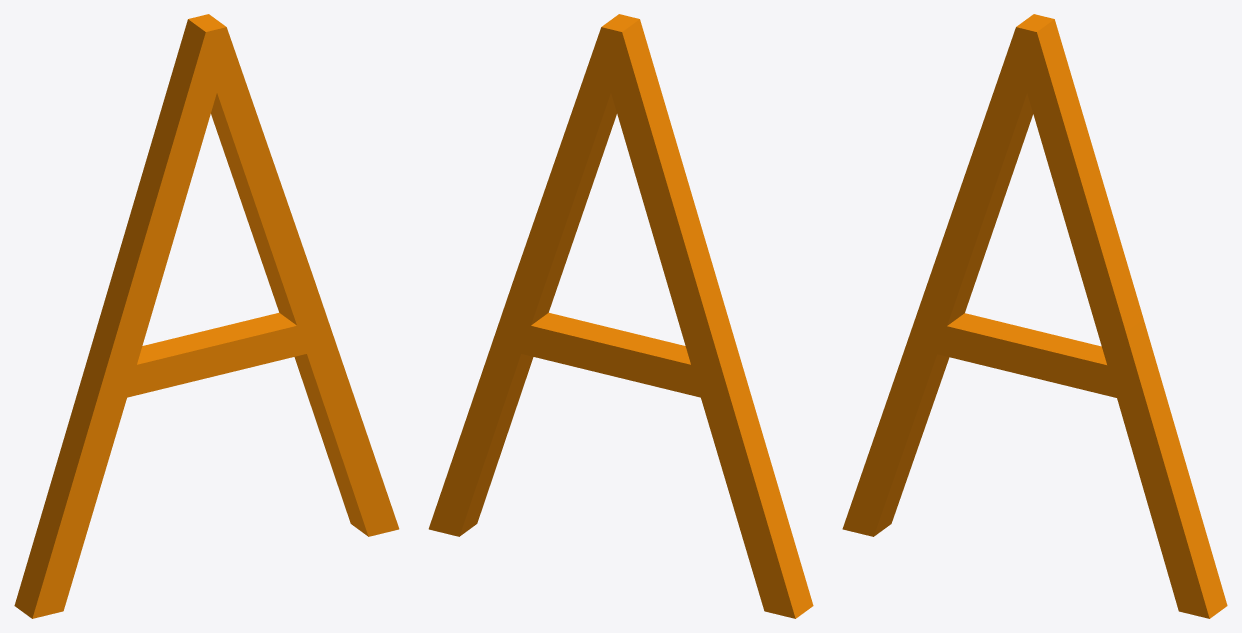
3 views of the same model, side by side, from view 1: azimuth 30°, elevation 25°; view 2: azimuth 150°, elevation 25°; view 3: azimuth 330°, elevation 25° (orthographic).
Visible parts, largest first — view 1: A; view 2: A; view 3: A.
Boxes of the visible parts, x1=… form: A: x1=14, y1=14, x2=399, y2=618; A: x1=428, y1=14, x2=813, y2=618; A: x1=842, y1=14, x2=1227, y2=618.
Bounding box in the file's own units: 59.36 × 84.1 × 5.
